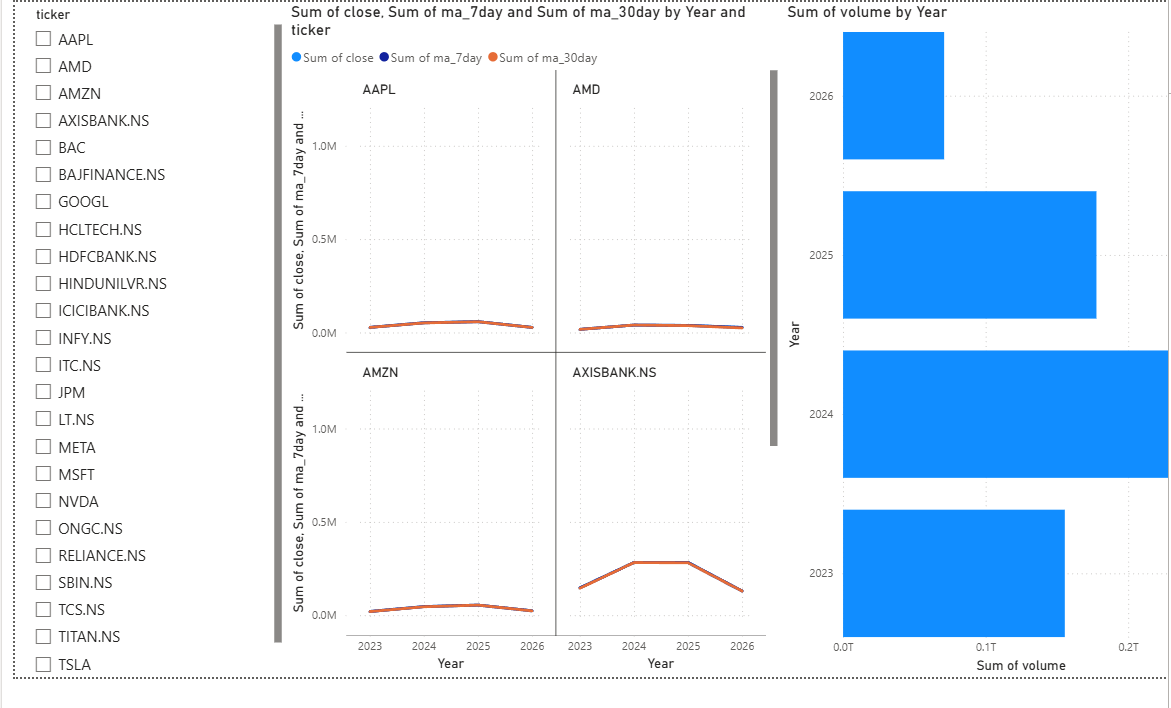

What the dashboard file says about the page in this screenshot:
{"tool":"powerbi","page":{"name":"Stock Deep Dive","canvas":[1280,720],"ordinal":1},"visuals":[{"type":"slicer","fields":{"Values":["public fact_stock_prices.ticker"]},"box":[9.6,0,279.9,720.4],"z":0},{"type":"lineChart","fields":{"Category":["public vw_moving_averages.date.Variation.Date Hierarchy.Year","public vw_moving_averages.date.Variation.Date Hierarchy.Quarter","public vw_moving_averages.date.Variation.Date Hierarchy.Month","public vw_moving_averages.date.Variation.Date Hierarchy.Day"],"Y":["Sum(public vw_moving_averages.close)","Sum(public vw_moving_averages.ma_7day)","Sum(public vw_moving_averages.ma_30day)"],"Rows":["public vw_moving_averages.ticker"]},"box":[289.5,0,529.7,720.4],"z":1000},{"type":"barChart","fields":{"Category":["public fact_stock_prices.date.Variation.Date Hierarchy.Year","public fact_stock_prices.date.Variation.Date Hierarchy.Quarter","public fact_stock_prices.date.Variation.Date Hierarchy.Month","public fact_stock_prices.date.Variation.Date Hierarchy.Day"],"Y":["Sum(public fact_stock_prices.volume)"]},"box":[819.2,0,461.1,720.4],"z":2000}]}

Visuals, with their boxes in screenshot pixels (x1, y1, x2, y2):
slicer - public fact_stock_prices.ticker: Rect(12, 0, 274, 674)
lineChart - public vw_moving_averages.date.Variation.Date Hierarchy.Year x public vw_moving_averages.date.Variation.Date Hierarchy.Quarter: Rect(274, 0, 769, 674)
barChart - public fact_stock_prices.date.Variation.Date Hierarchy.Year x public fact_stock_prices.date.Variation.Date Hierarchy.Quarter: Rect(769, 0, 1170, 674)
